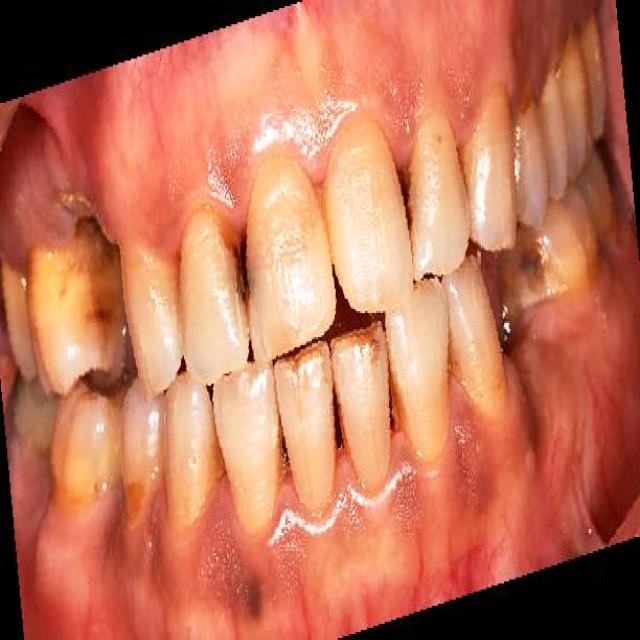caries: (222, 216, 264, 319), (516, 229, 557, 305), (80, 283, 119, 354), (120, 467, 152, 539)
